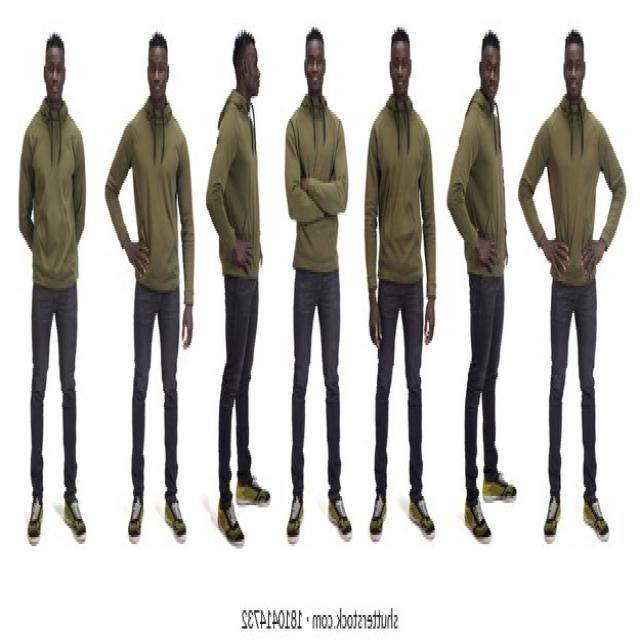adult: (518, 29, 627, 542), (104, 31, 198, 544), (365, 26, 437, 542), (447, 29, 517, 541), (206, 27, 272, 551), (19, 31, 86, 545), (285, 26, 351, 537)
